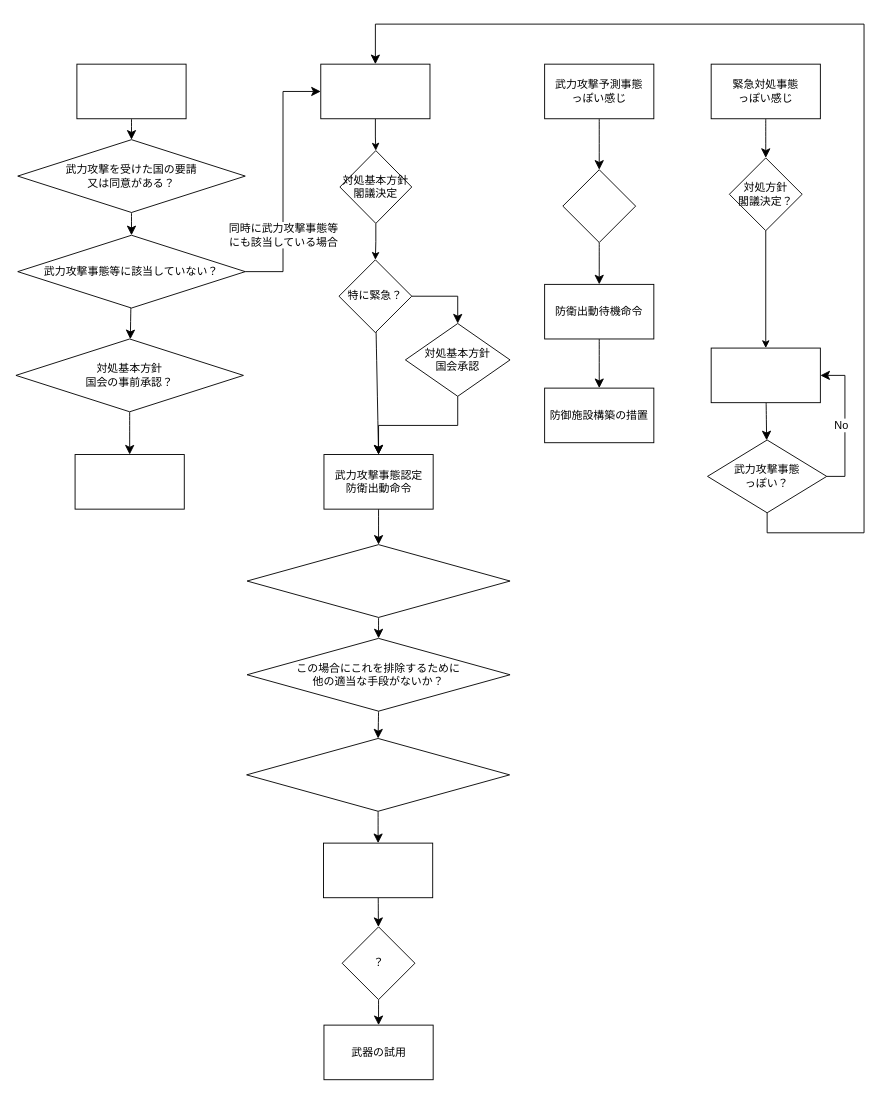
The diagram is 889 pixels wide and 1096 high, and some of its shapes have lost their labels. The centre of each missing label's shape, as x and y in pixels:
内閣総理大臣承認？: point (599, 206)
存立危機 っぽい感じ: point (131, 91)
存立危機事態認定 防衛出動命令: point (129, 481)
必要最小限度の実力行使か？: point (378, 774)
我が国に対する急迫不正の侵害があること、 すなわち武力攻撃が発生した？: point (378, 580)
武力攻撃 （切迫／発生） っぽい感じ: point (375, 91)
緊急対処事態認定 緊急対処措置: point (765, 375)
自衛権行使 ＝武力の行使: point (378, 870)
